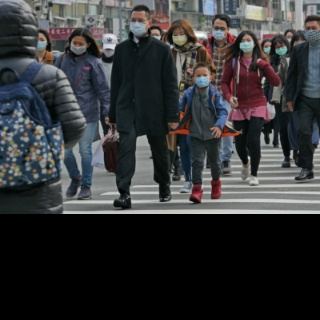with_mask: (129, 16, 148, 37), (304, 25, 320, 43), (71, 40, 87, 56), (172, 31, 188, 47), (212, 25, 228, 41), (239, 37, 254, 54), (195, 72, 209, 88), (35, 37, 48, 52), (102, 46, 115, 58), (275, 44, 288, 56), (263, 44, 273, 56), (151, 32, 161, 42), (285, 35, 293, 44)
